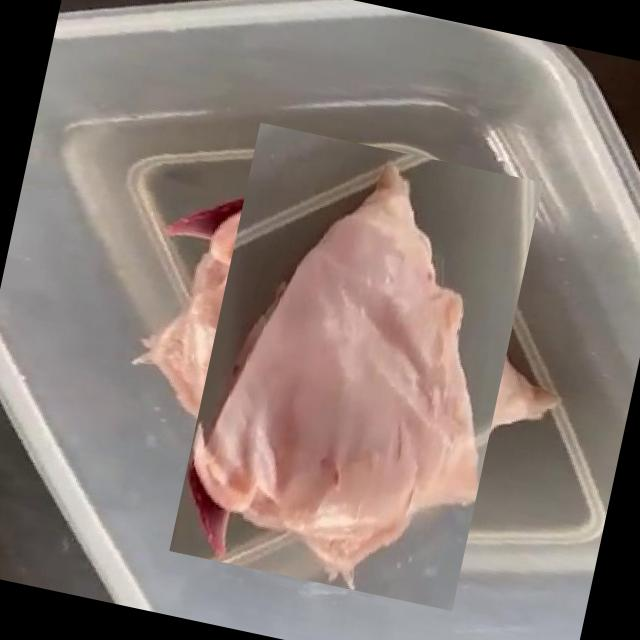chicken: (139, 150, 571, 582)
